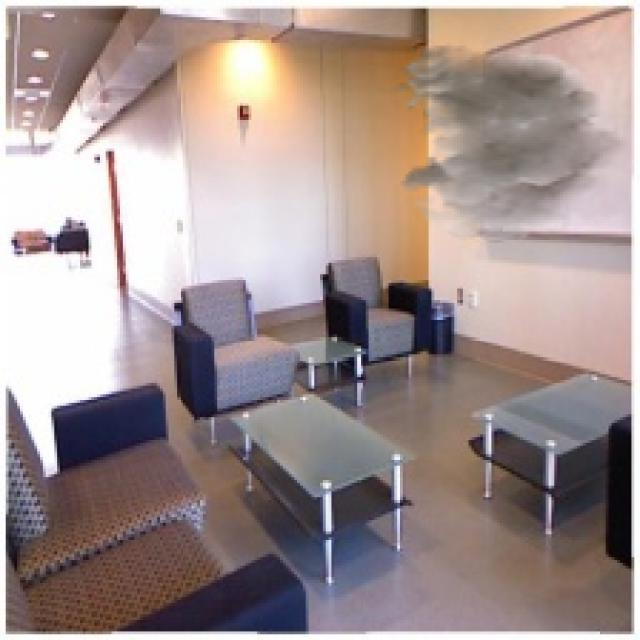smoke: (394, 43, 632, 243)
